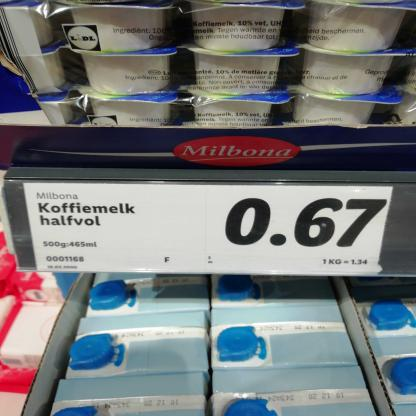prtg: (22, 184, 394, 274)
